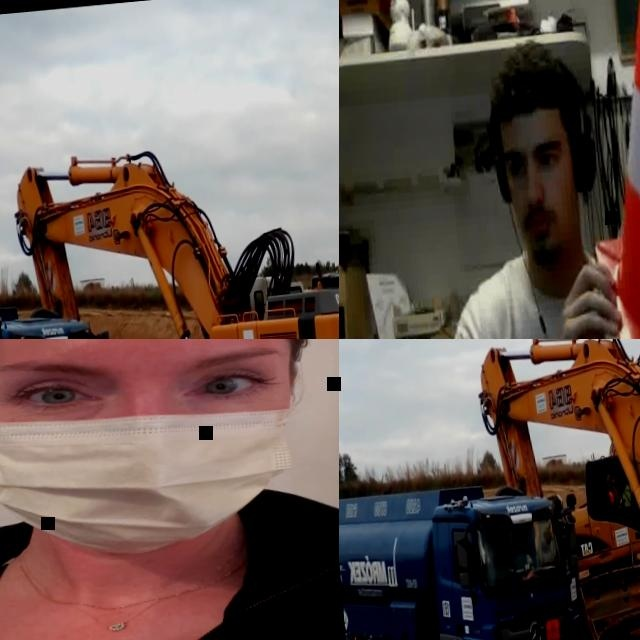Mask: (0, 370, 315, 567)
NO-Hardhat: (483, 33, 580, 125)
NO-Mask: (509, 196, 578, 269)
NO-Safety Vest: (0, 501, 339, 640), (481, 256, 640, 339)
Person: (0, 339, 339, 640), (402, 0, 640, 339), (607, 477, 619, 506)
Safety Cone: (573, 0, 640, 339)
Safety Vest: (608, 489, 618, 503)
machinery: (9, 120, 339, 339), (469, 339, 640, 640), (339, 474, 591, 640), (541, 339, 640, 640)
